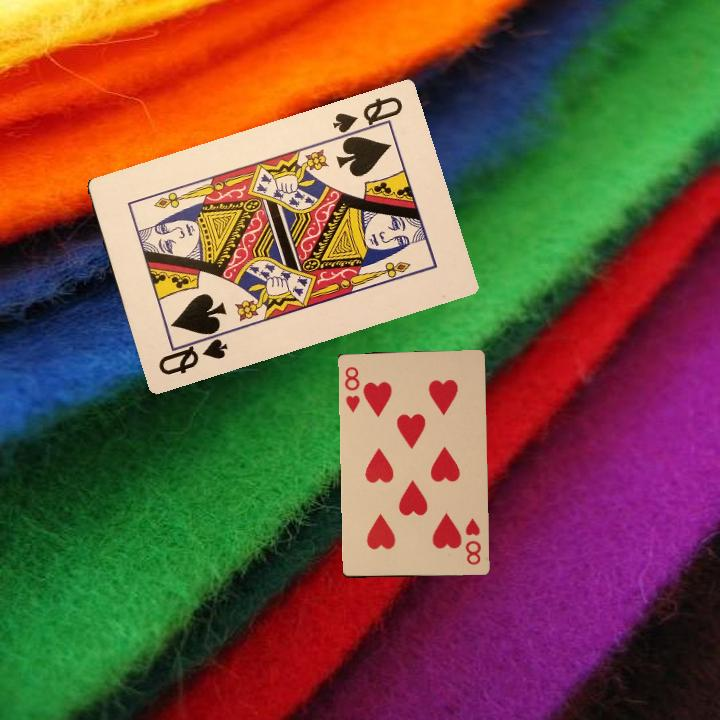8h: (461, 514, 484, 567), (340, 363, 362, 414)
Qs: (154, 327, 231, 378), (328, 92, 405, 143)
